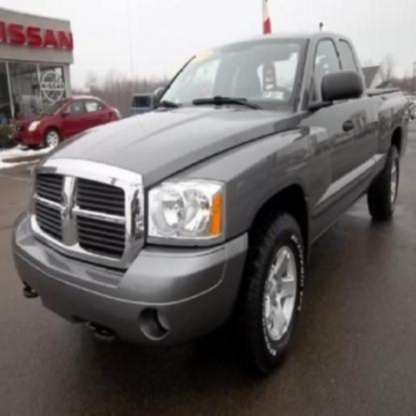Vehicle: (11, 32, 409, 364)
